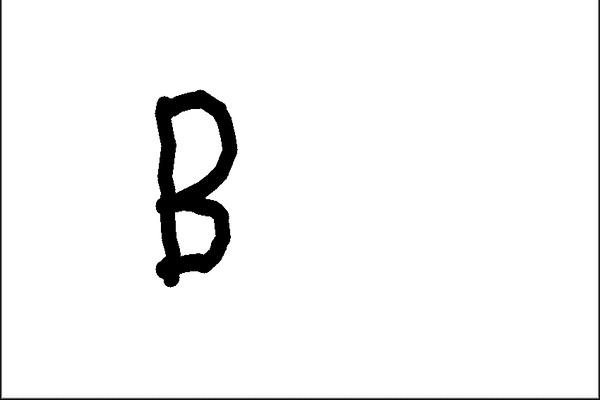B: (136, 79, 248, 298)
